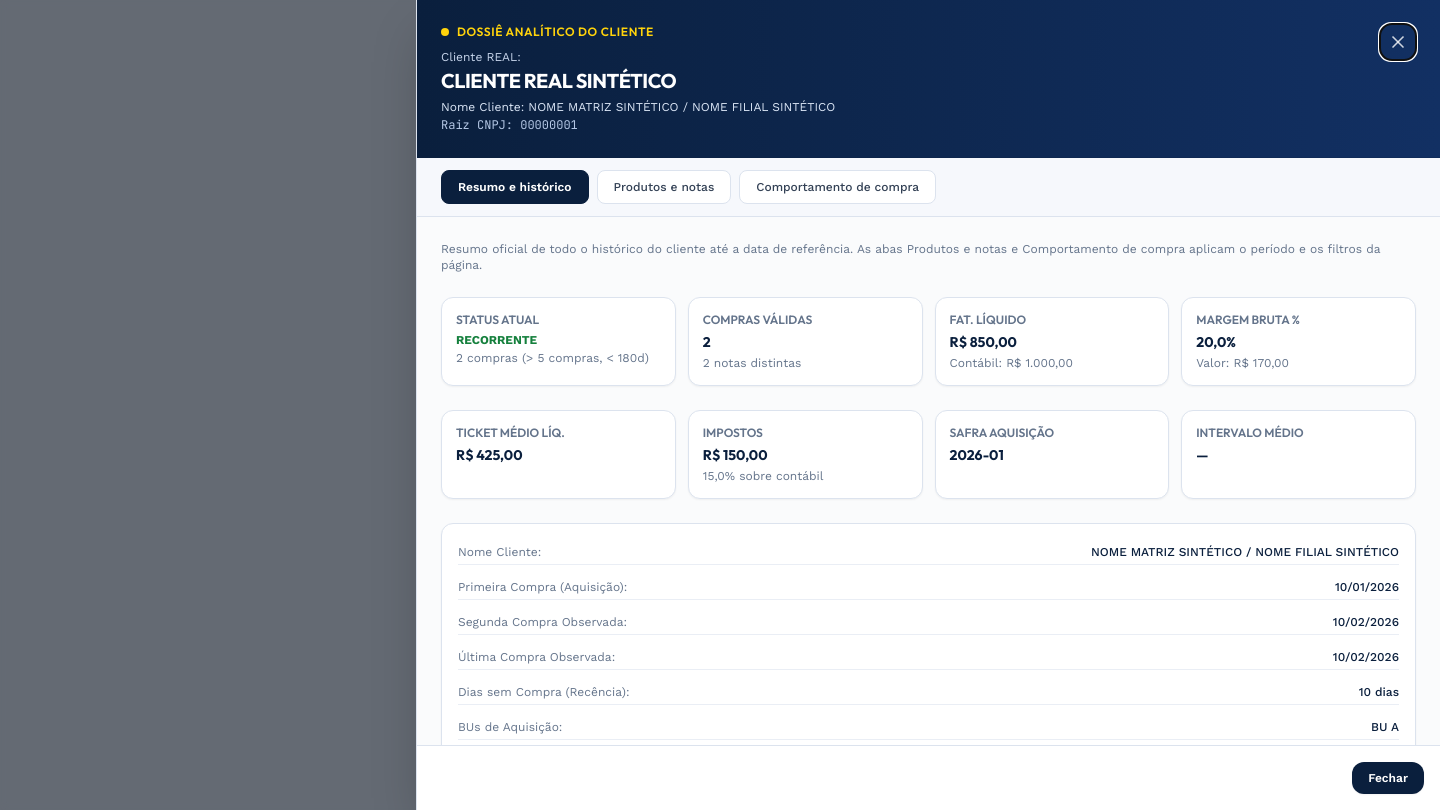
Test case: Exploração do cliente › abre a aba de itens e fecha o dossiê por Escape restaurando o scroll
Later steps or results of the test are not shown.
What coordinates should you click on to do the following:
click the button "Produtos e notas"
I would click on:
 (664, 187)
Its box is [596,170,731,204].
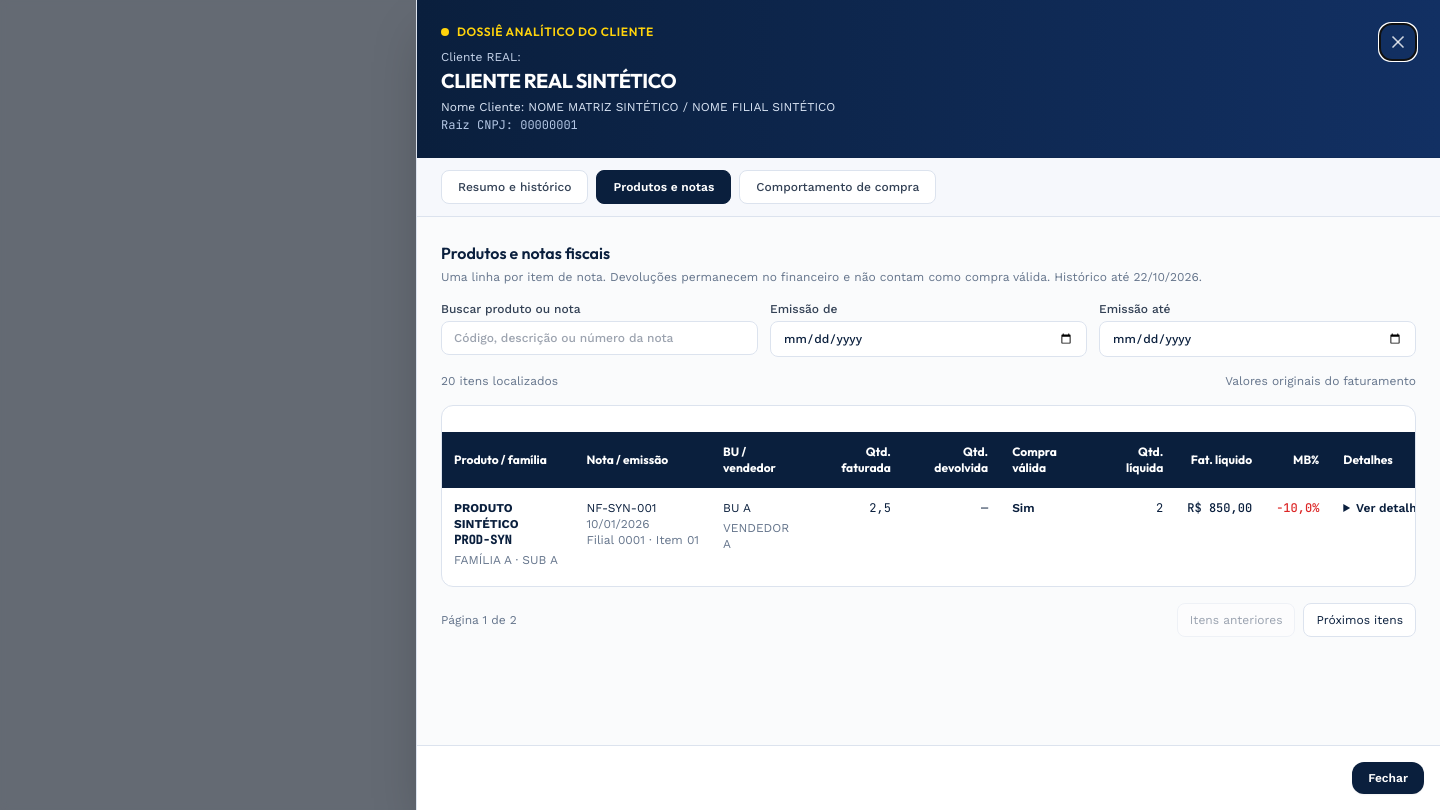
Now the text "PRODUTO SINTÉTICO" is shown, box [454,501,518,531]
